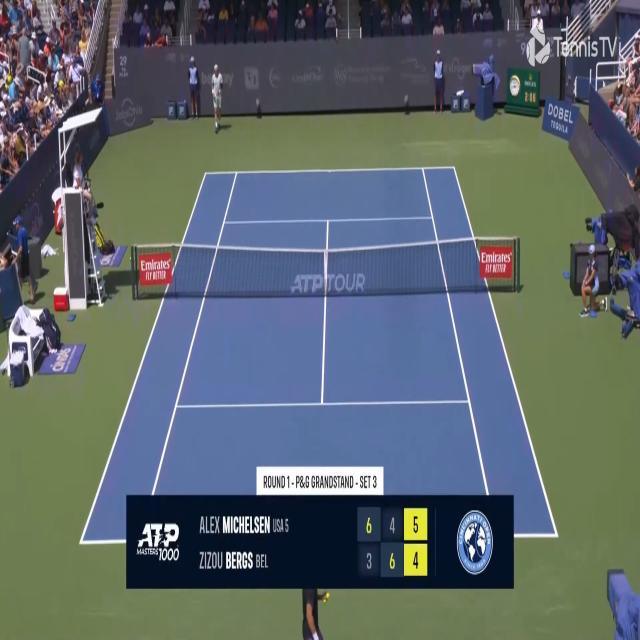tennis-player: (210, 63, 223, 134)
